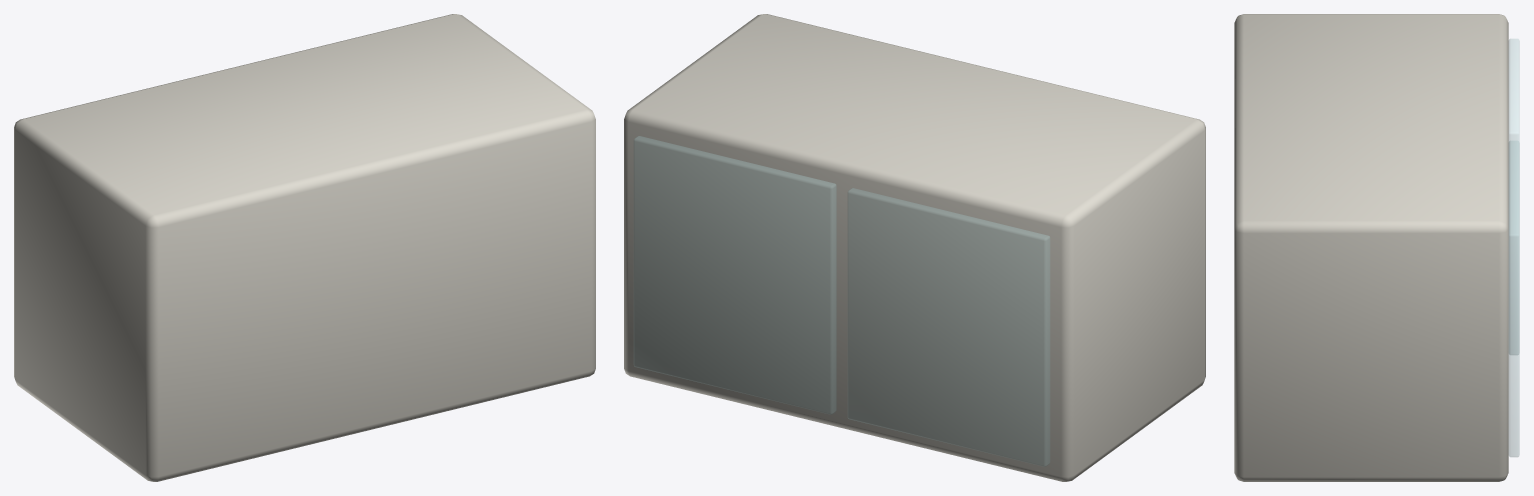
The model's file is display_freezer_chest.glb.
3 views of the same model, side by side, from view 1: azimuth 30°, elevation 25°; view 2: azimuth 150°, elevation 25°; view 3: azimuth 270°, elevation 25° (orthographic). The views are drawn at different scales.
Parts seen in each view (by area): view 1: Freezer; view 2: Freezer, Lid.001, Lid; view 3: Freezer, Lid.001, Lid.
Part boxes in pixels (box(x1,y1,x2,y2)): Freezer: box(14, 14, 595, 481); Freezer: box(624, 14, 1205, 481); Lid.001: box(634, 136, 836, 414); Lid: box(848, 188, 1049, 466); Freezer: box(1234, 14, 1508, 481); Lid.001: box(1509, 141, 1519, 456); Lid: box(1509, 39, 1519, 354).
Size of the model in its own units: 1.85 by 1.05 by 1.04.
